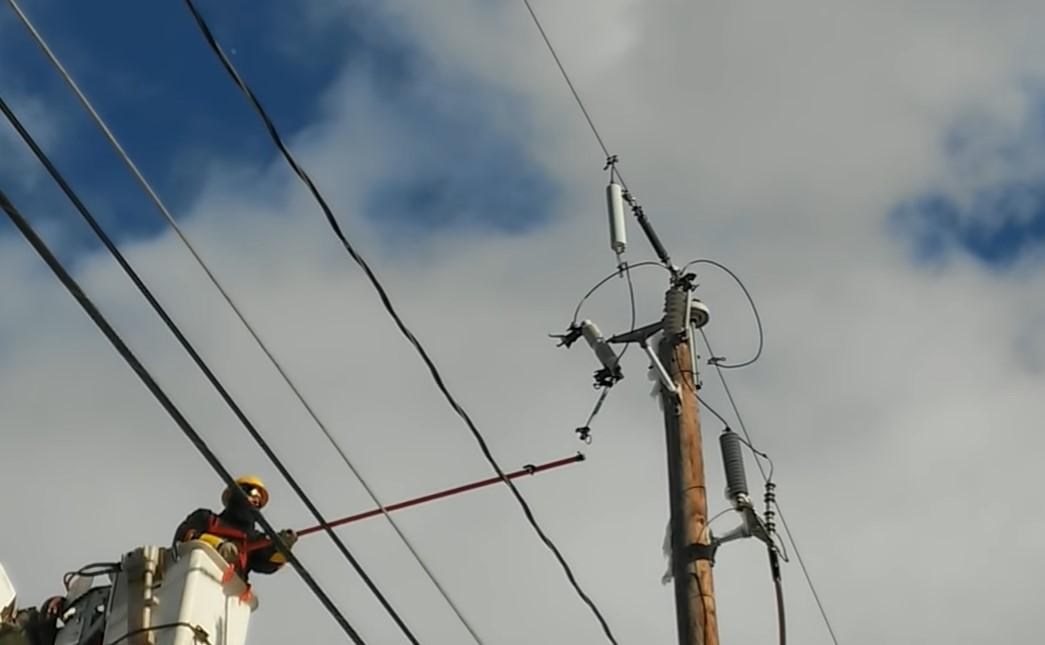Vara_Manobra: (281, 447, 583, 539)
